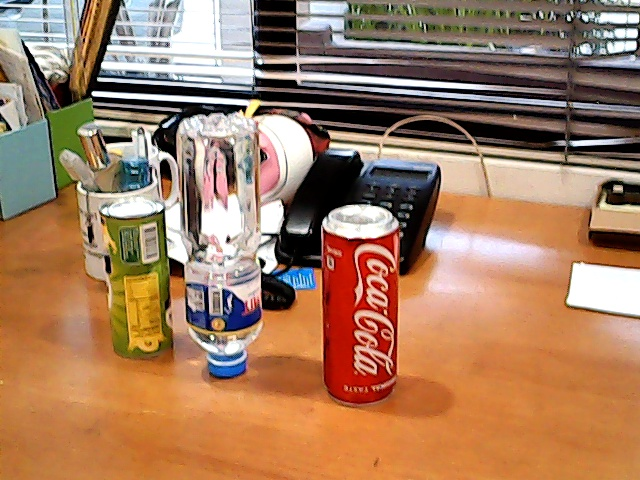Cola: (309, 200, 416, 416)
Pine Juice: (92, 188, 181, 370)
Summit Water: (183, 108, 284, 382)
